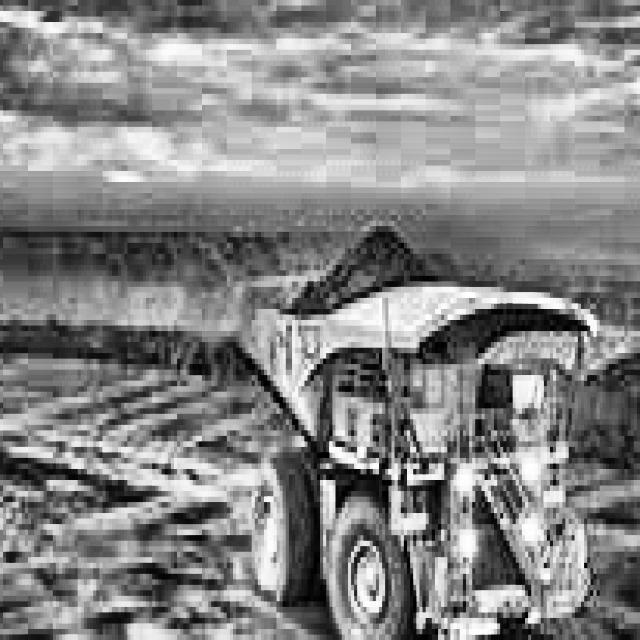dump_truck: (227, 193, 593, 640)
